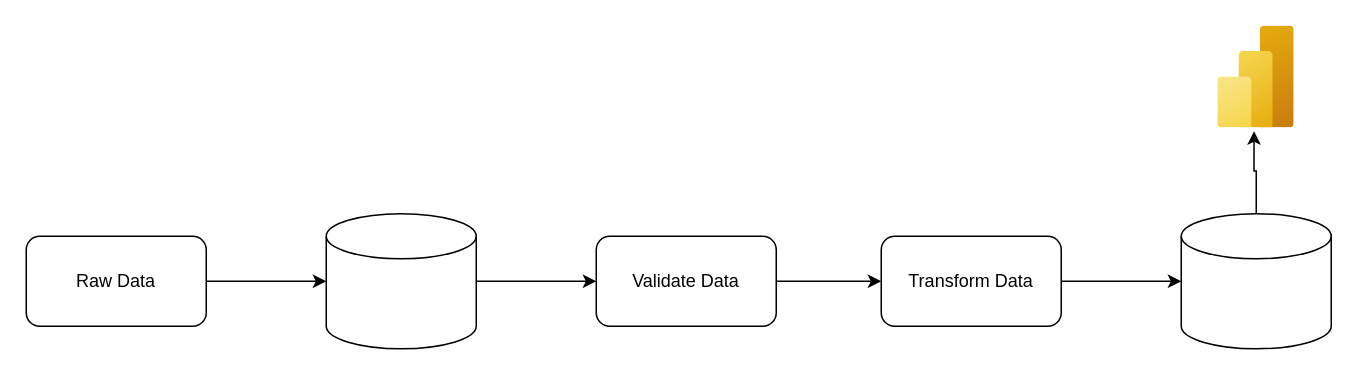
This 1358x375 diagram has some shape labels left out. The centre of each missing label's shape, as x and y in pixels:
"Gold Data Storage" belongs at (1255,280).
"Staging Data Storage" belongs at (400,280).
